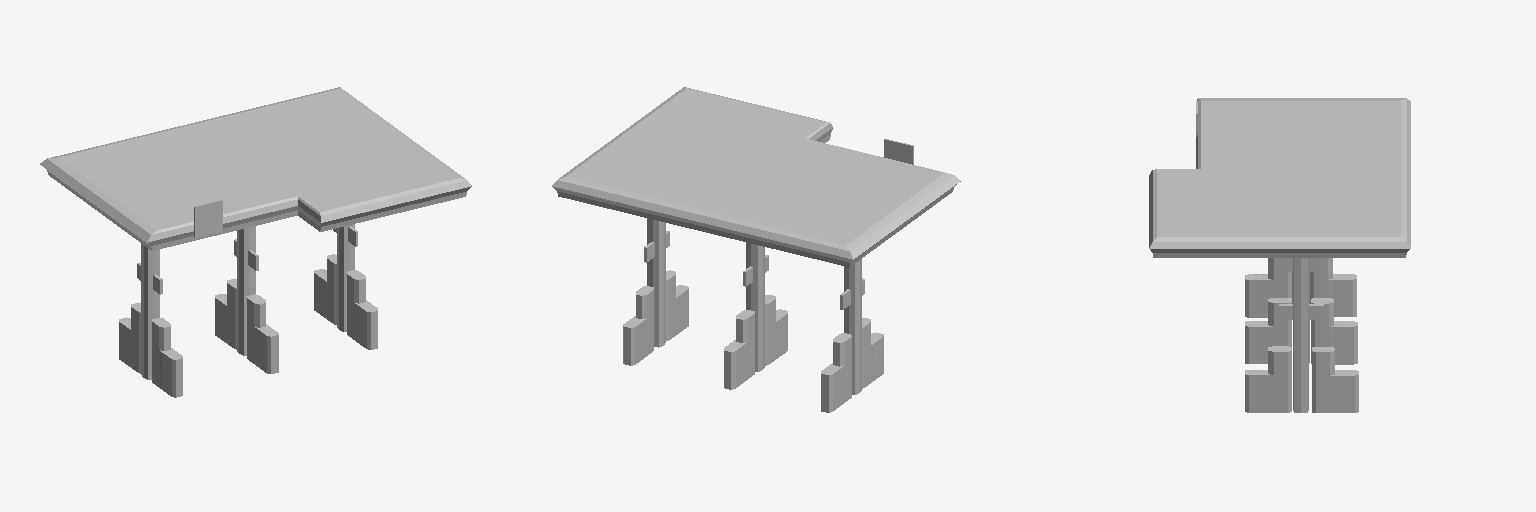
Rendered from PetrolStationV4.obj.
3 renders of one model, left to right at view 1: azimuth 30°, elevation 25°; view 2: azimuth 150°, elevation 25°; view 3: azimuth 270°, elevation 25°, orthographic.
Visible parts, largest first — view 1: Cube.013; view 2: Cube.013; view 3: Cube.013.
Boxes of the visible parts, x1,y1,x2,y2 form: Cube.013: [40, 87, 471, 397]; Cube.013: [552, 87, 960, 412]; Cube.013: [1149, 98, 1410, 412].
Bounding box in the file's own units: 43.02 × 28.59 × 32.31.